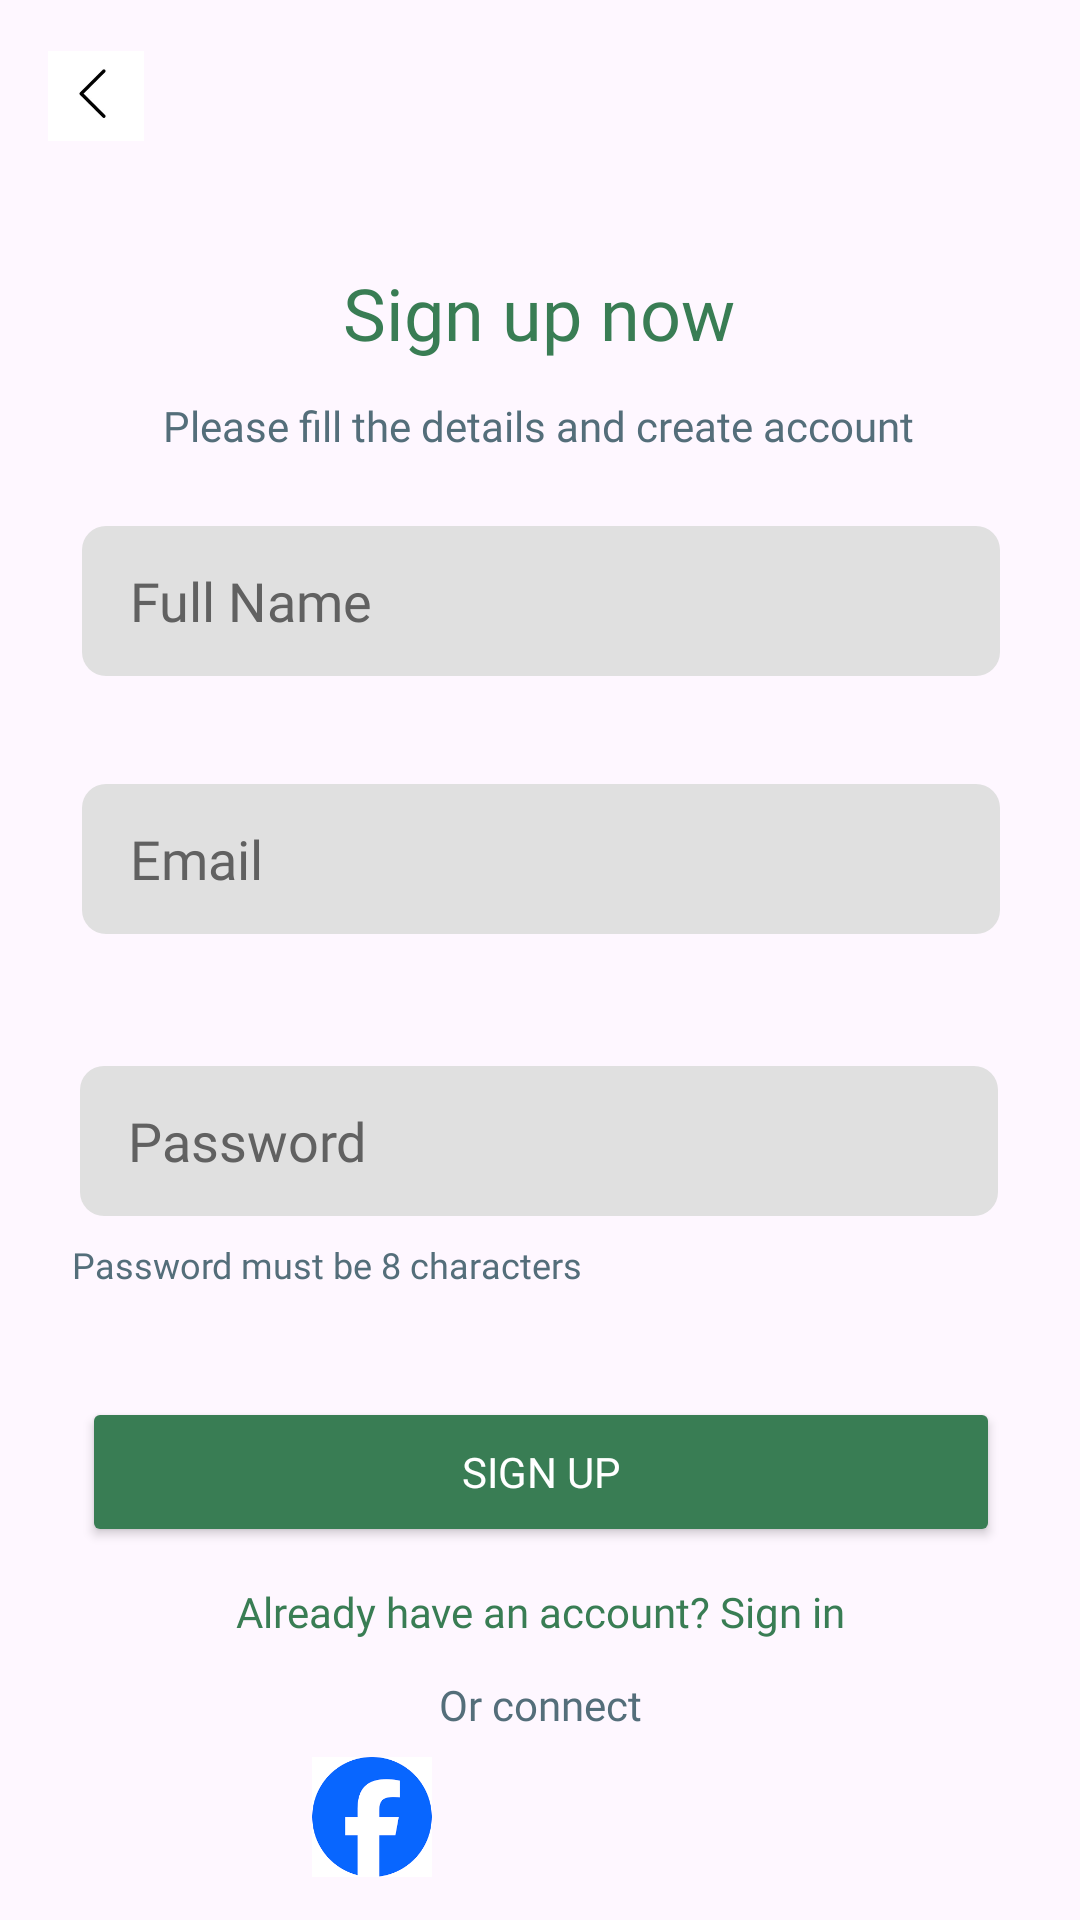

Named icons in this screenshot (1080px×1920px) and their centers, (x=x, y=y):
Back: (x=92, y=93)
